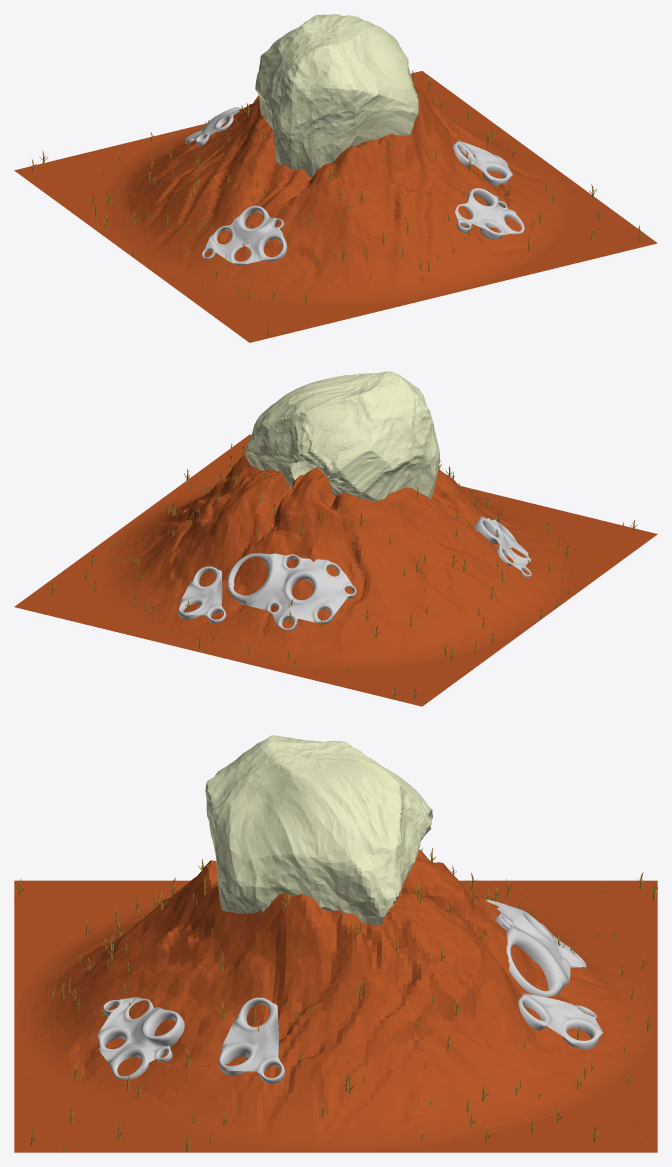
Rendered from volcano_v1.fbx.
3 renders of one model, top to bottom at view 1: azimuth 30°, elevation 25°; view 2: azimuth 150°, elevation 25°; view 3: azimuth 270°, elevation 25°, orthographic. The views are drawn at different scales.
Parts seen in each view (by area): view 1: Landscape, Landscape.002, Cylinder.002, Cylinder.004, Cylinder.006, Cylinder.005; view 2: Landscape, Landscape.002, Cylinder.005, Cylinder.008, Cylinder.002; view 3: Landscape, Landscape.002, Cylinder.004, Cylinder.005, Cylinder.006, Cylinder.008.
Boxes of the visible parts, left/top/right/bottom form: Landscape: left=14, top=71, right=657, bottom=342; Landscape.002: left=255, top=14, right=418, bottom=177; Cylinder.002: left=202, top=205, right=287, bottom=265; Cylinder.004: left=455, top=188, right=524, bottom=239; Cylinder.006: left=452, top=140, right=512, bottom=186; Cylinder.005: left=184, top=107, right=243, bottom=146; Landscape: left=14, top=434, right=657, bottom=706; Landscape.002: left=246, top=371, right=439, bottom=500; Cylinder.005: left=227, top=553, right=356, bottom=630; Cylinder.008: left=178, top=566, right=226, bottom=623; Cylinder.002: left=474, top=516, right=531, bottom=577; Landscape: left=14, top=849, right=657, bottom=1152; Landscape.002: left=205, top=735, right=433, bottom=925; Cylinder.004: left=97, top=997, right=184, bottom=1079; Cylinder.005: left=486, top=899, right=586, bottom=997; Cylinder.006: left=218, top=997, right=285, bottom=1083; Cylinder.008: left=518, top=993, right=602, bottom=1049.
Size of the model in its own units: 202 by 93.15 by 200.
